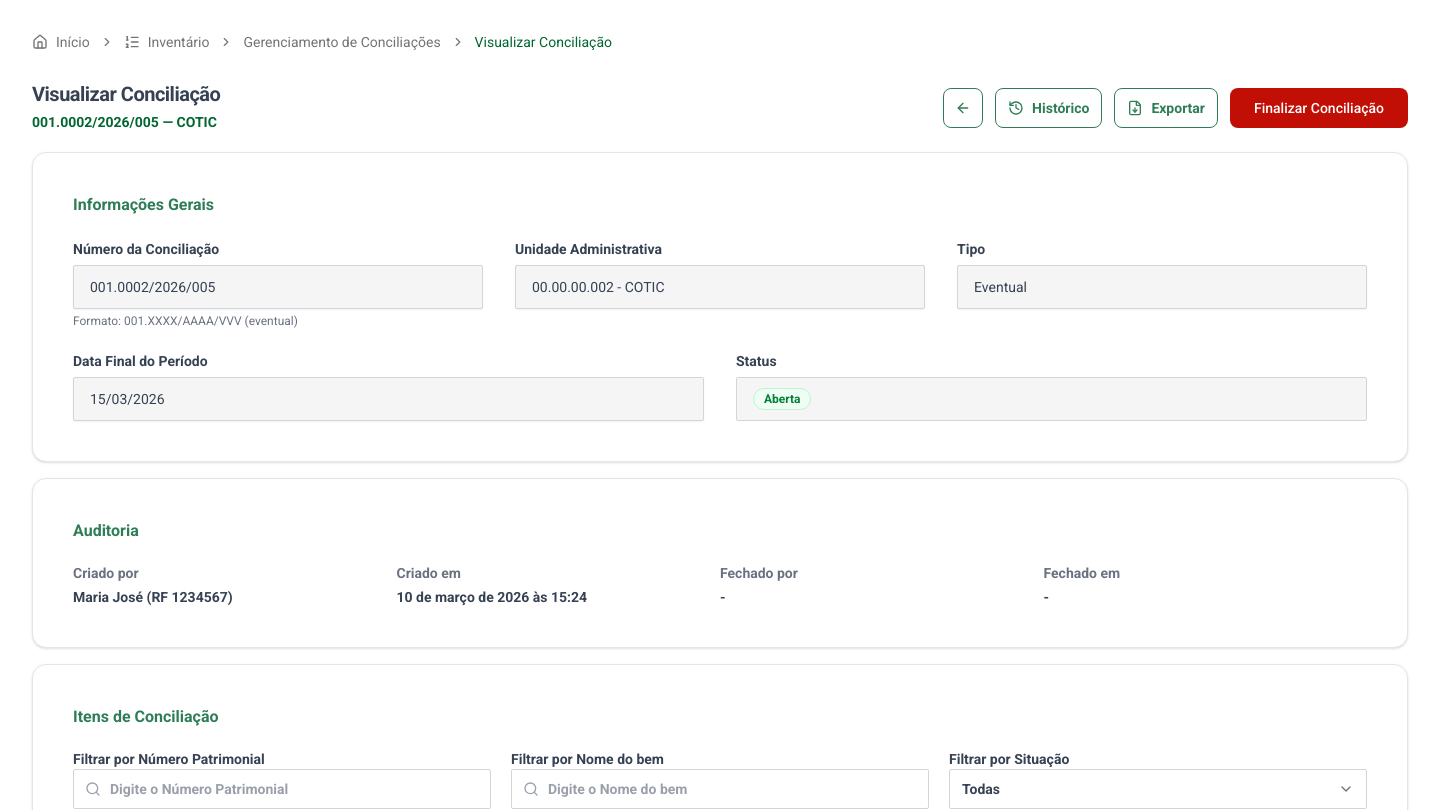
Scenario: VisualizarConciliacaoPage › abre o modal de finalizacao ao clicar em Finalizar conciliação
Click the button with test id "visualizar-conciliacao-finalizar". click: [1319, 108]
box: [1230, 88, 1408, 128]
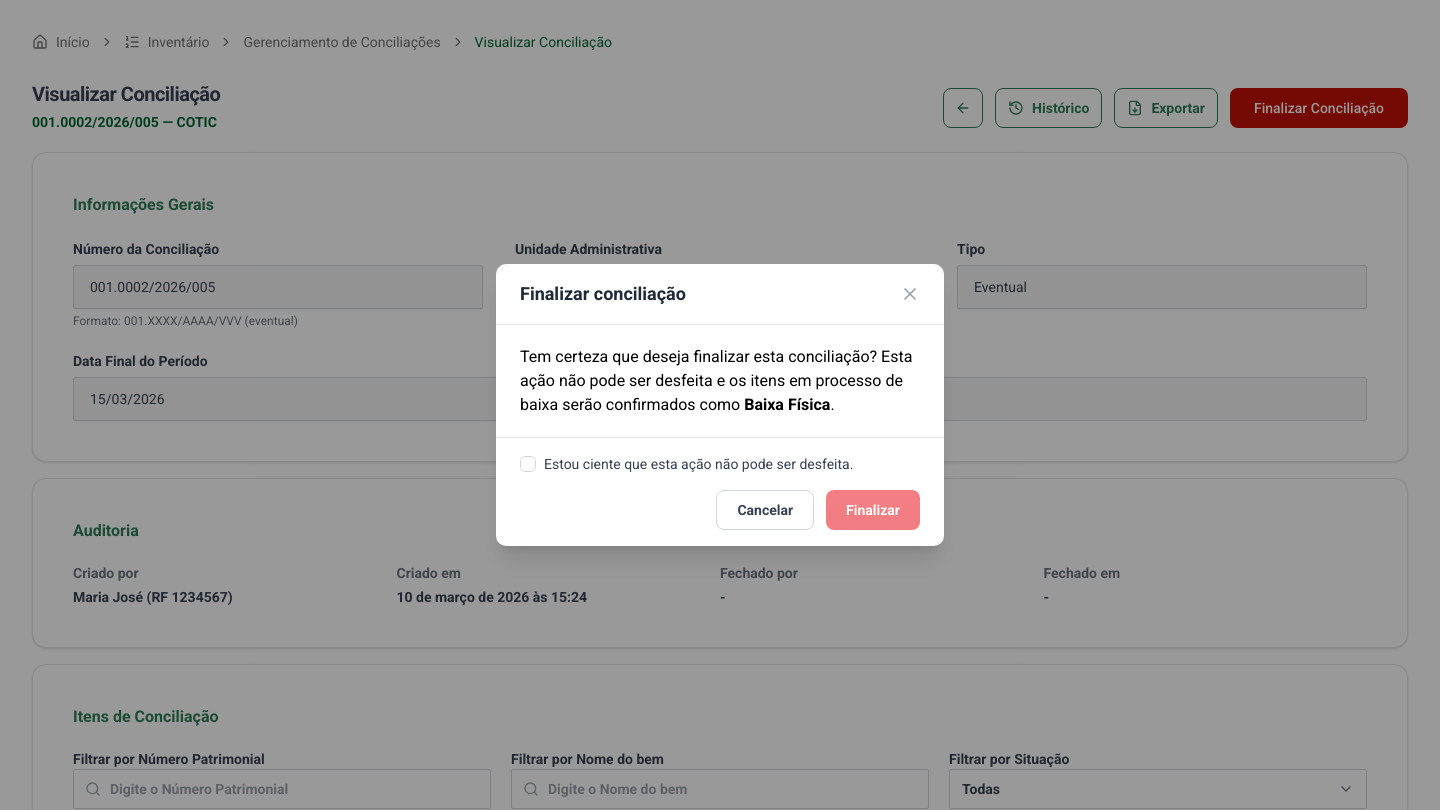
Now the element with test id "conciliacao-finalizar-modal" is shown, box [496, 264, 944, 546]
